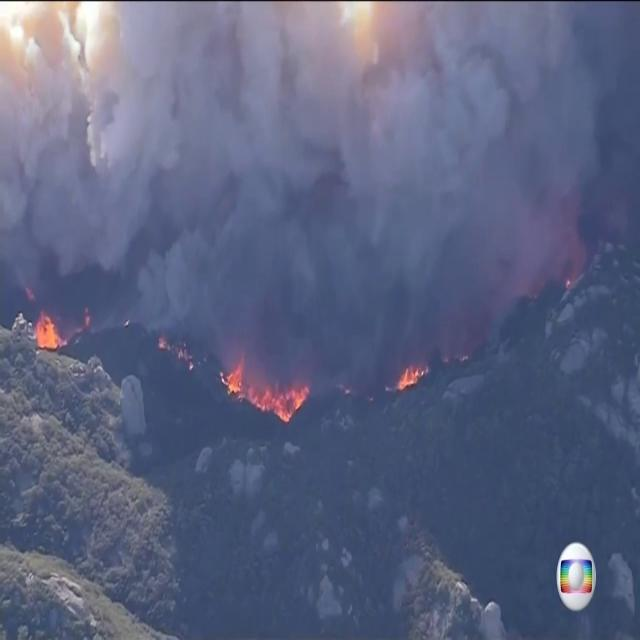Fire: (218, 354, 310, 424), (34, 308, 66, 350), (398, 364, 428, 392)
Smoke: (1, 1, 640, 400)
